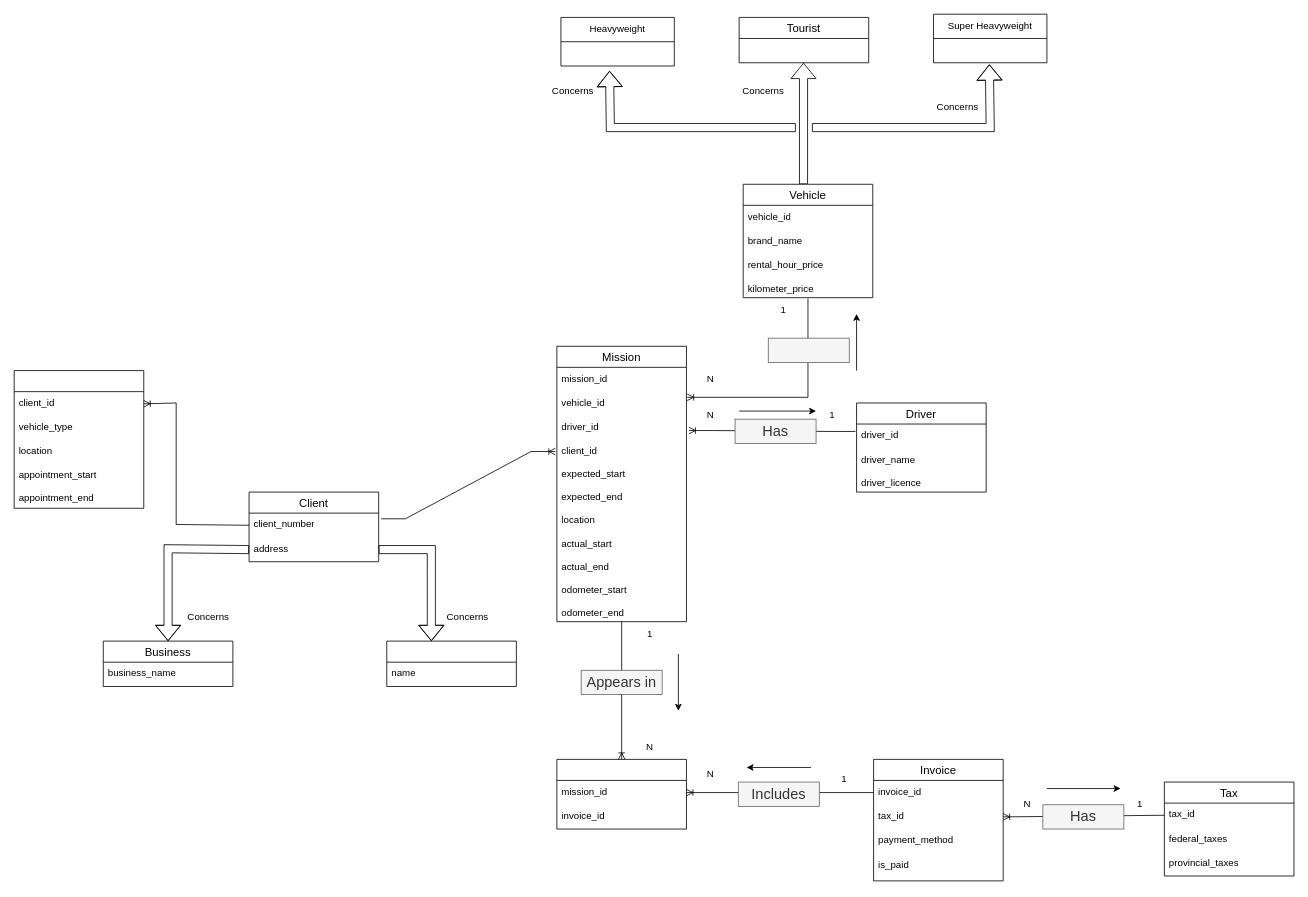
This 1308x897 diagram has some shape labels left out. The shapes that lost their labels are listed below. From the top down, each one's box as (x1, y1, x2, y2) in pixels, then its label:
(767, 337, 849, 362): Is assigned
(13, 370, 144, 508): Reservation
(386, 640, 516, 686): Person
(556, 759, 686, 829): Line Order
